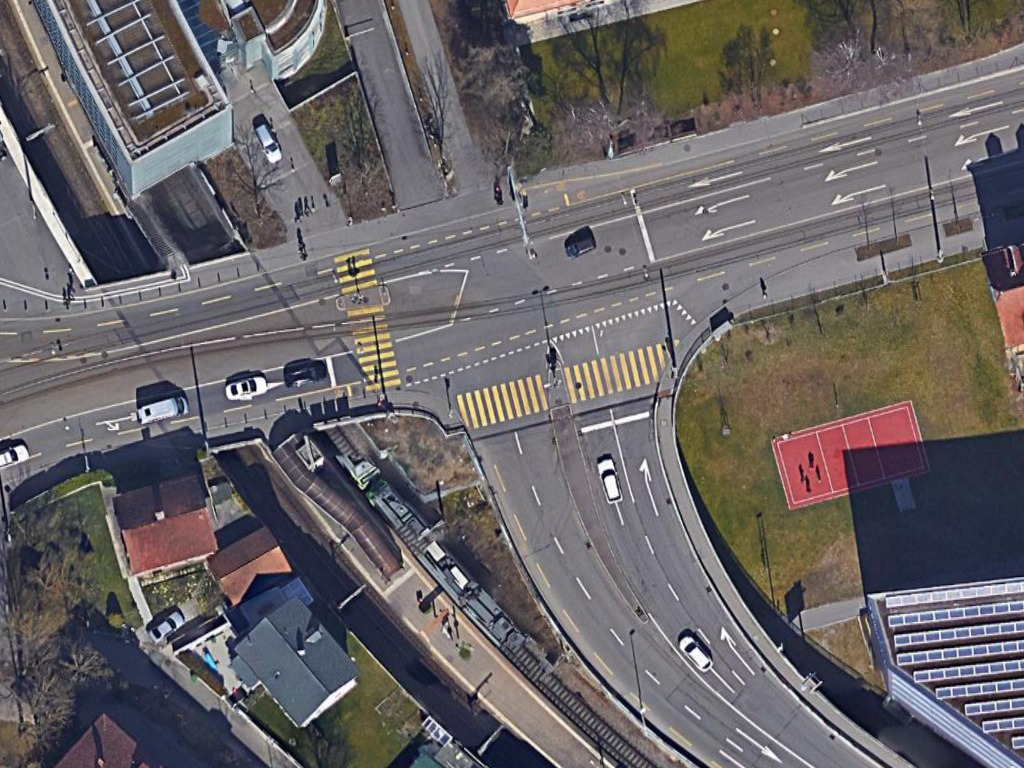car: (591, 452, 625, 510), (142, 607, 190, 647), (676, 632, 716, 677), (251, 120, 287, 167), (220, 373, 271, 406)
van: (133, 393, 194, 428)
